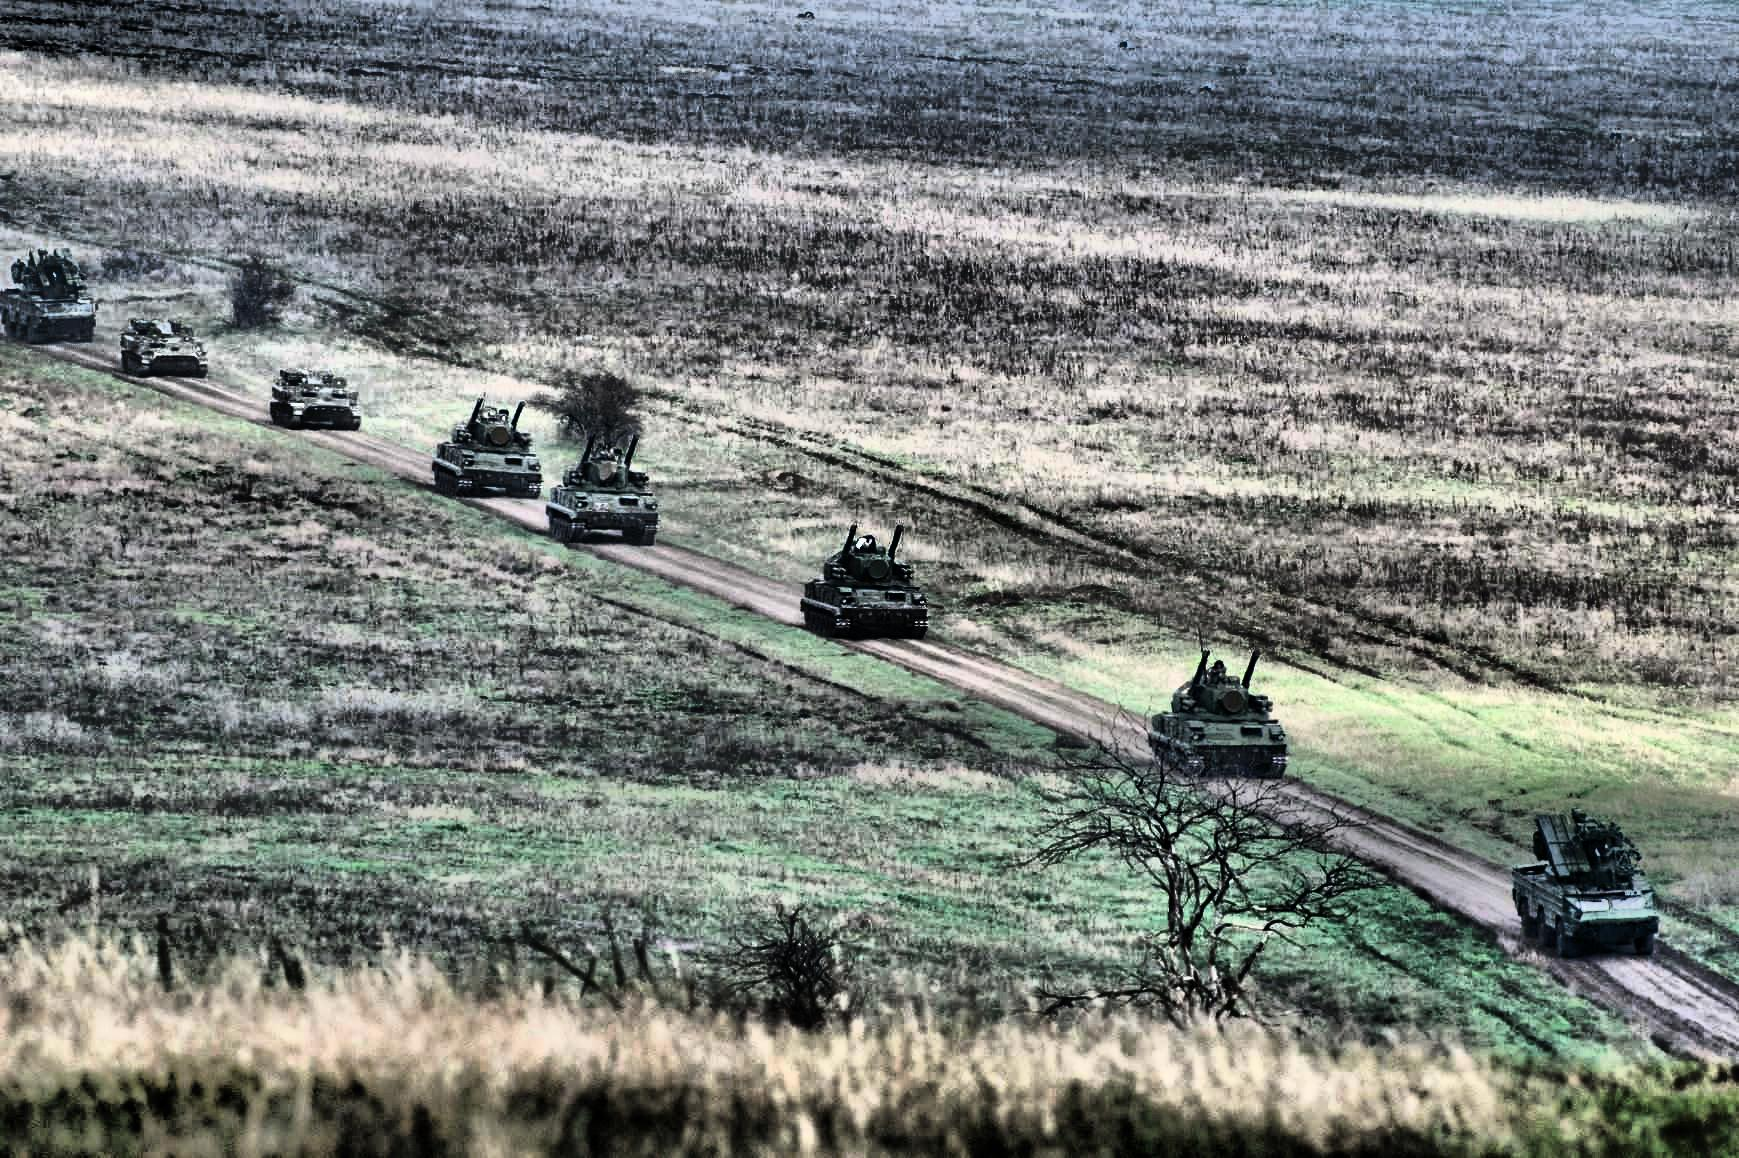military-vehicle: (1510, 806, 1665, 956), (1146, 644, 1295, 782), (798, 522, 935, 640), (547, 438, 665, 545), (430, 395, 544, 498), (0, 246, 102, 342), (267, 370, 364, 432), (118, 318, 211, 376)
